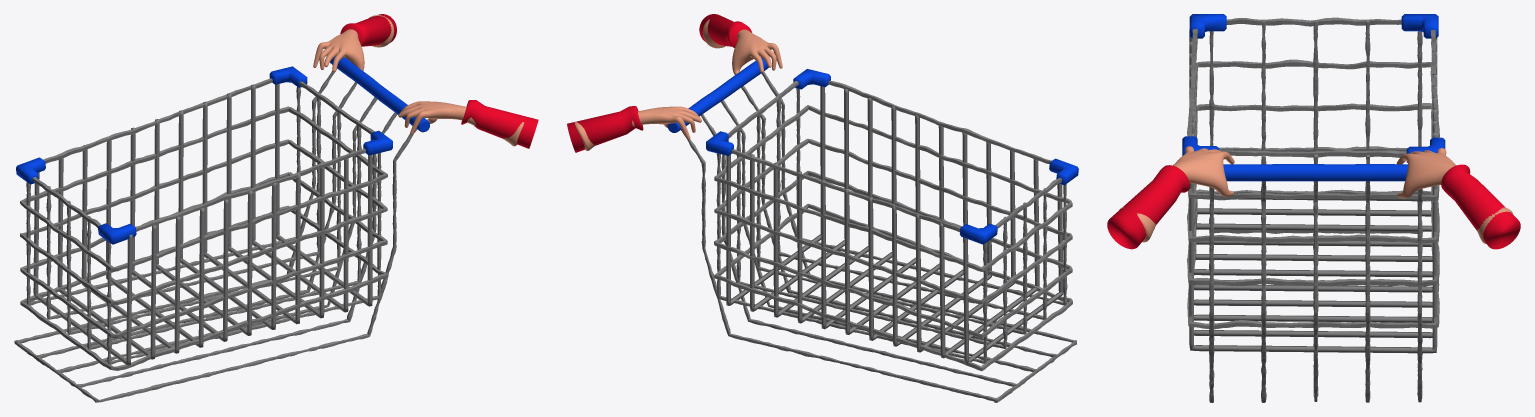
Rendered from new Trolley.fbx.
The picture shows the model from 3 angles, left to right: view 1: azimuth 30°, elevation 25°; view 2: azimuth 150°, elevation 25°; view 3: azimuth 270°, elevation 25°; orthographic projection. The views are drawn at different scales.
Visible parts, largest first — view 1: New Trolley, Cylinder.001, Cube.004, Cube.001, Cylinder; view 2: New Trolley, Cylinder, Cube.001, Cube.004, Cylinder.001; view 3: New Trolley, Cylinder, Cylinder.001, Cube.001, Cube.004.
Boxes of the visible parts, x1,y1,x2,y2 form: New Trolley: (14,56,429,402); Cylinder.001: (461,100,538,148); Cube.004: (313,15,394,72); Cube.001: (398,101,524,146); Cylinder: (340,14,396,46); New Trolley: (667,57,1078,402); Cylinder: (567,106,643,152); Cube.001: (702,18,782,74); Cube.004: (574,106,701,150); Cylinder.001: (699,14,751,47); New Trolley: (1182,14,1445,402); Cylinder: (1441,164,1520,249); Cylinder.001: (1107,165,1189,249); Cube.001: (1119,146,1234,242); Cube.004: (1396,148,1512,243).
Bounding box in the file's own units: 549 × 288 × 370.
